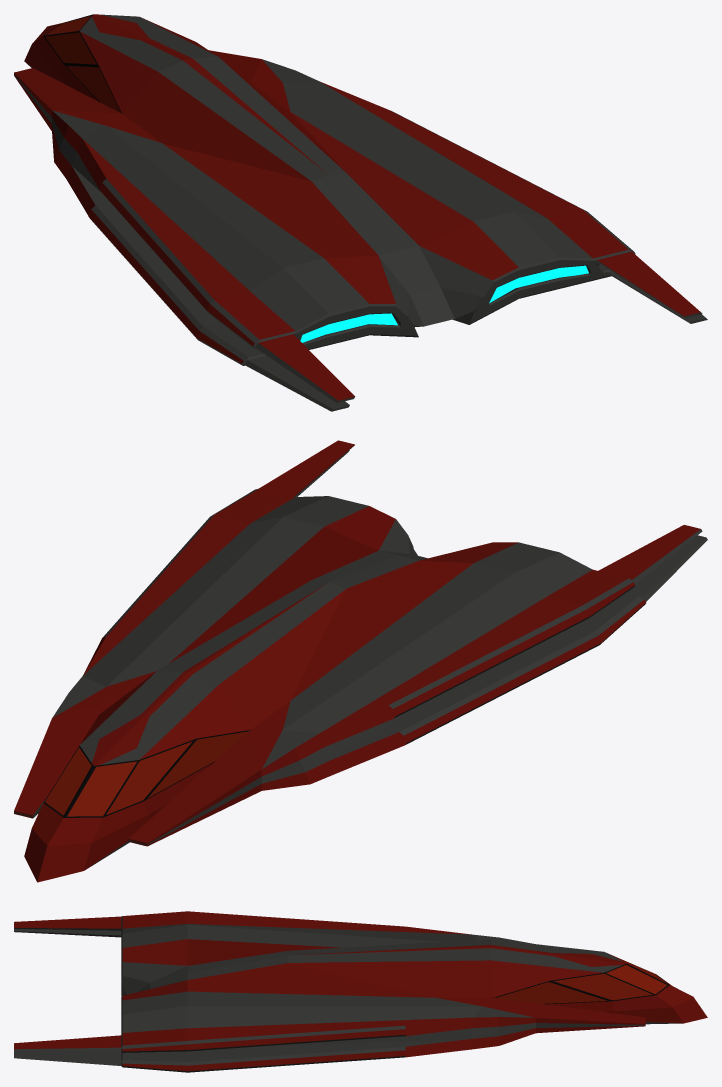
The model's file is low_poly_space_ship_10.glb.
3 renders of one model, top to bottom at view 1: azimuth 30°, elevation 25°; view 2: azimuth 150°, elevation 25°; view 3: azimuth 270°, elevation 25°, orthographic. The views are drawn at different scales.
Parts seen in each view (by area): view 1: Cube; view 2: Cube; view 3: Cube.
Part boxes in pixels (x1,y1,x2,y2): Cube: [14, 14, 707, 411]; Cube: [14, 440, 707, 882]; Cube: [14, 911, 707, 1072].
Bounding box in the file's own units: 1336 × 348 × 2754.
